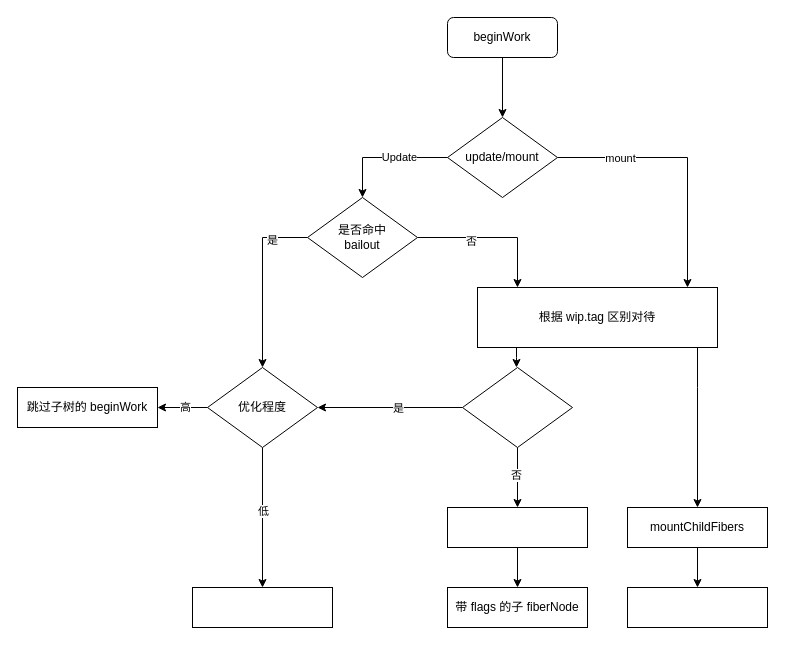
Some shapes in this 785 by 645 pixel diagram are drawn without their labels. The centre of each missing label's shape, as x and y in pixels:
"reconcileChildFibers" goes at (x=517, y=527).
"复用子 fiberNode" goes at (x=262, y=607).
"子 fiberNode" goes at (x=697, y=607).
"是否命中 bailOut 策略" goes at (x=517, y=407).
